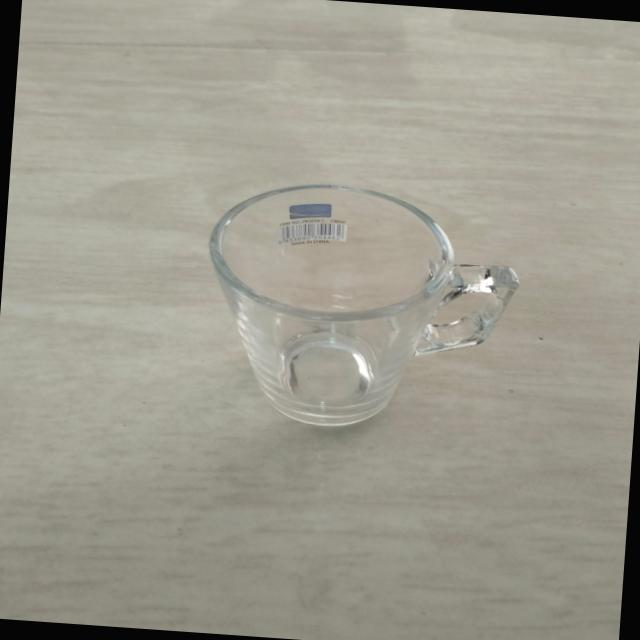glass-VX4N: (180, 175, 529, 451)
